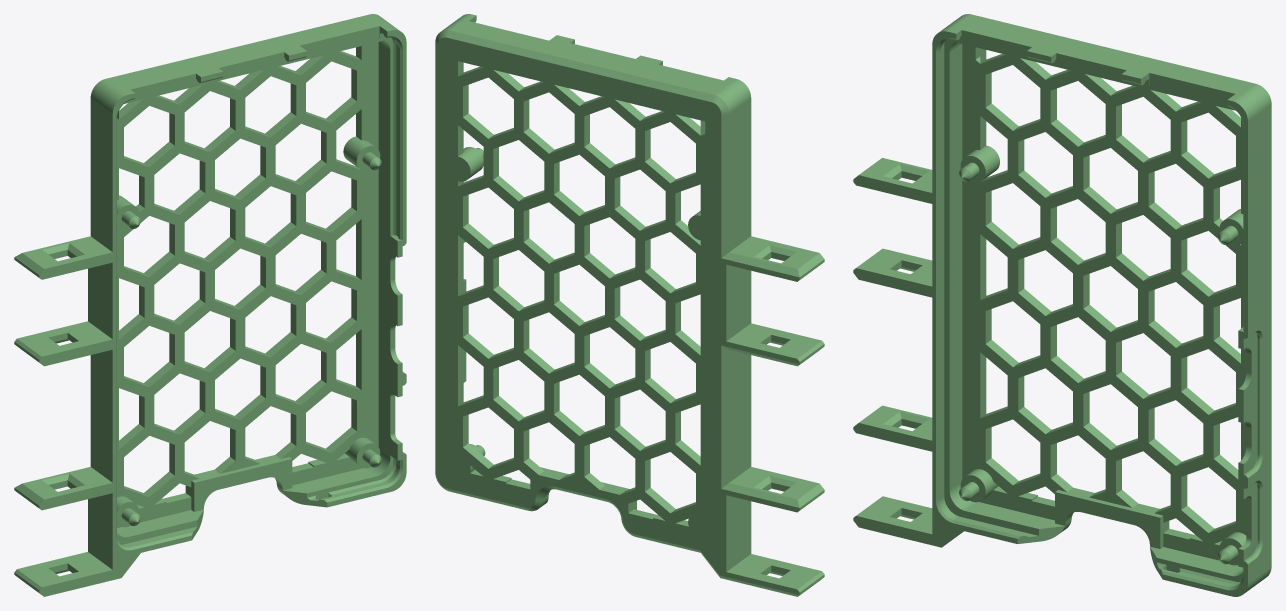
File: other-homeracker-pi5-case-4.glb
The picture shows the model from 3 angles, left to right: view 1: azimuth 30°, elevation 25°; view 2: azimuth 150°, elevation 25°; view 3: azimuth 330°, elevation 25°; orthographic projection. The views are drawn at different scales.
Parts seen in each view (by area): view 1: HomeRacker+-+Pi5+Case.3mf; view 2: HomeRacker+-+Pi5+Case.3mf; view 3: HomeRacker+-+Pi5+Case.3mf.
Boxes of the visible parts, bbox=[...] form: HomeRacker+-+Pi5+Case.3mf: bbox=[14, 14, 406, 596]; HomeRacker+-+Pi5+Case.3mf: bbox=[435, 14, 824, 596]; HomeRacker+-+Pi5+Case.3mf: bbox=[853, 14, 1271, 596].
Size of the model in its own units: 75 by 94 by 8.8.
